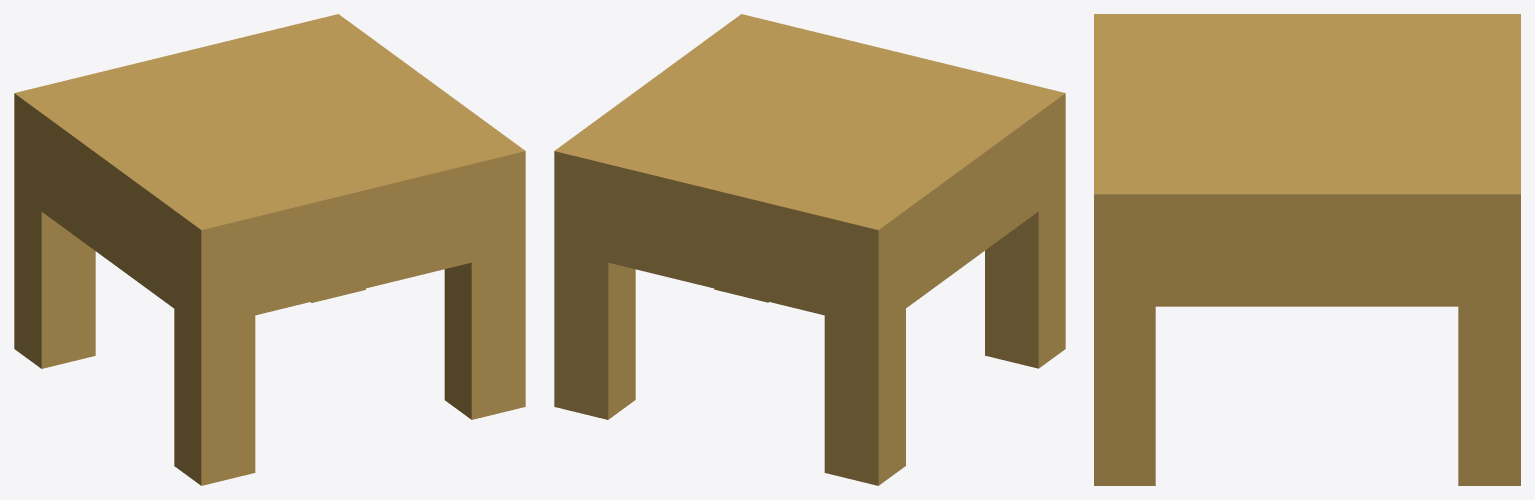
Rendered from TestTable.fbx.
3 renders of one model, left to right at view 1: azimuth 30°, elevation 25°; view 2: azimuth 150°, elevation 25°; view 3: azimuth 270°, elevation 25°, orthographic. The views are drawn at different scales.
Visible parts, largest first — view 1: pCube1; view 2: pCube1; view 3: pCube1.
Part boxes in pixels (x1,y1,x2,y2): pCube1: (14, 14, 525, 485); pCube1: (554, 14, 1065, 485); pCube1: (1094, 14, 1520, 485).
Bounding box in the file's own units: 1 × 0.7538 × 1.
